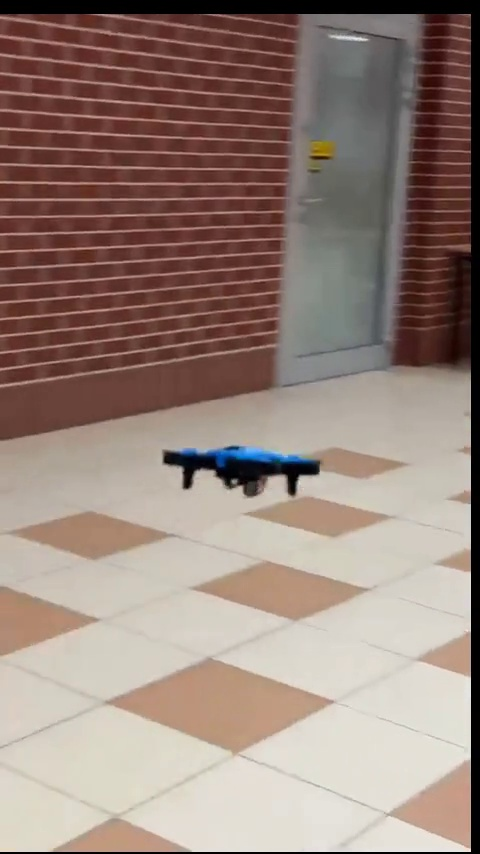drone: (174, 446, 323, 501)
